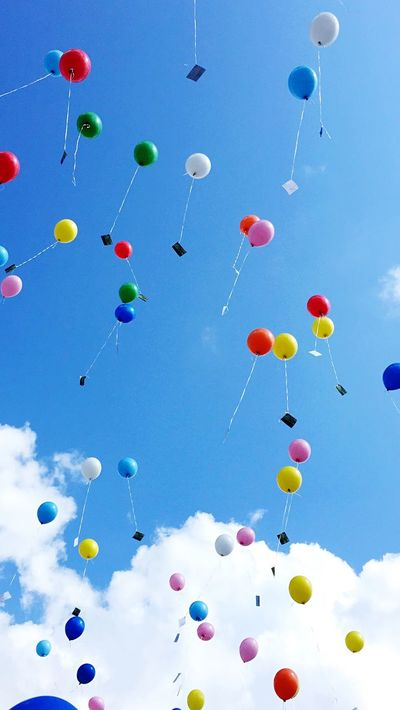Balloon: (60, 49, 93, 83), (309, 12, 339, 47), (288, 66, 315, 100), (247, 328, 275, 357), (248, 220, 275, 250), (274, 668, 298, 700), (77, 111, 103, 138), (186, 152, 211, 180), (79, 453, 103, 482), (288, 575, 312, 603), (273, 333, 298, 359), (134, 141, 158, 166), (288, 438, 311, 462), (44, 50, 65, 76), (54, 218, 77, 241), (307, 295, 331, 317), (1, 274, 23, 297), (64, 617, 85, 641), (240, 636, 257, 662), (37, 502, 57, 524), (215, 533, 234, 556), (79, 538, 99, 559), (118, 456, 137, 478), (313, 318, 333, 338), (189, 601, 209, 621), (115, 304, 136, 322), (346, 631, 363, 653), (114, 240, 133, 259), (119, 283, 137, 303), (77, 664, 95, 684), (237, 527, 255, 545), (187, 688, 201, 710), (197, 623, 215, 640), (36, 639, 51, 657), (170, 573, 183, 591)
